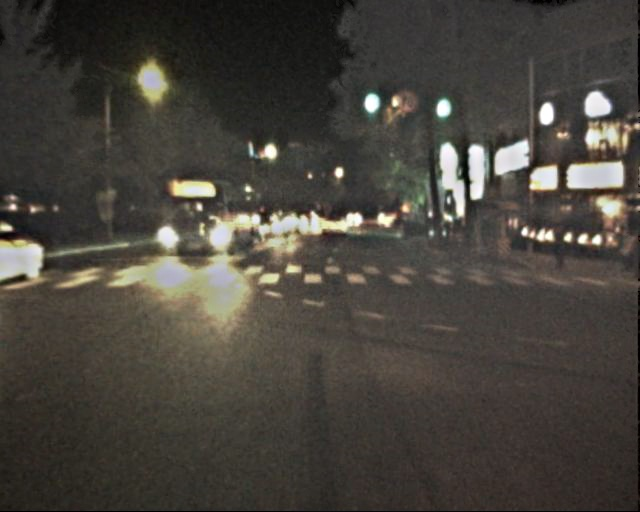person: (611, 230, 638, 280), (546, 222, 569, 271)
